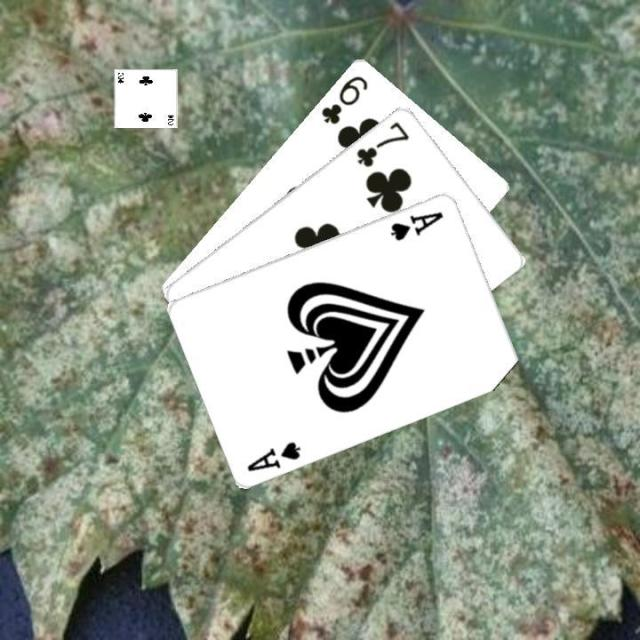6C: (316, 71, 370, 126)
7C: (352, 116, 412, 169)
AS: (243, 436, 303, 473), (387, 207, 445, 242)
